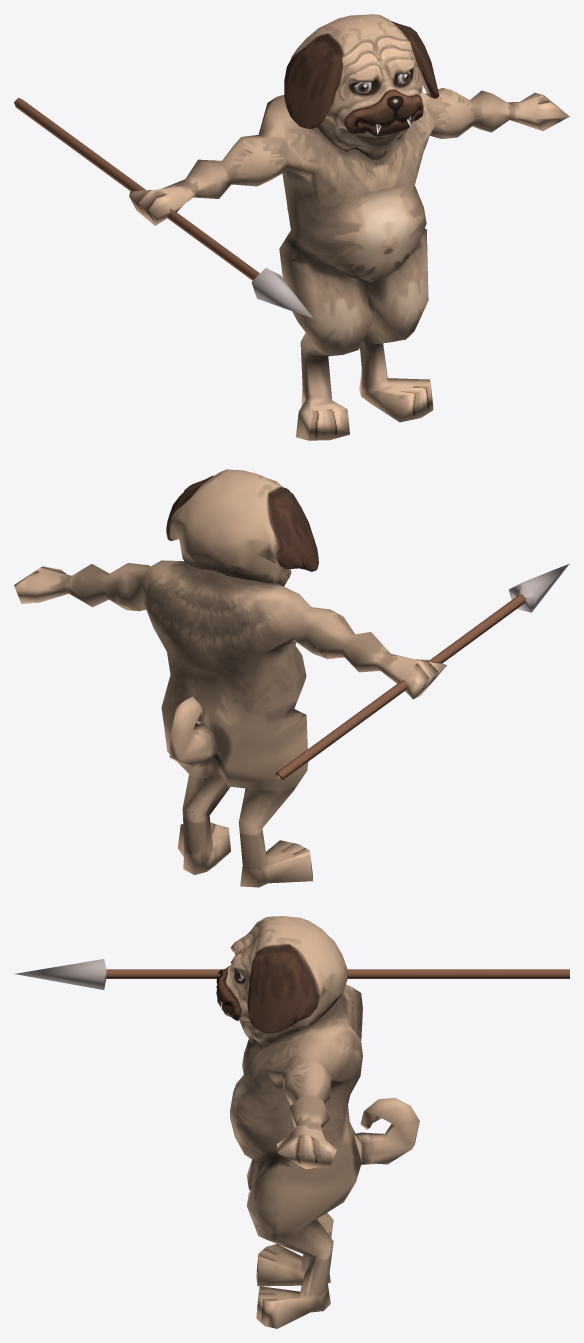
The model's file is Pug.obj.
The picture shows the model from 3 angles, top to bottom: view 1: azimuth 30°, elevation 25°; view 2: azimuth 150°, elevation 25°; view 3: azimuth 270°, elevation 25°; orthographic projection. The views are drawn at different scales.
Visible parts, largest first — view 1: Icosphere.001, Cylinder; view 2: Icosphere.001, Cylinder; view 3: Icosphere.001, Cylinder.
Part boxes in pixels (x1,y1,x2,y2): Icosphere.001: (129,14,569,440); Cylinder: (14,97,313,318); Icosphere.001: (14,469,446,887); Cylinder: (275,563,569,780); Icosphere.001: (216,916,419,1328); Cylinder: (15,959,569,989).
Size of the model in its own units: 7.9 by 7.26 by 9.75.
